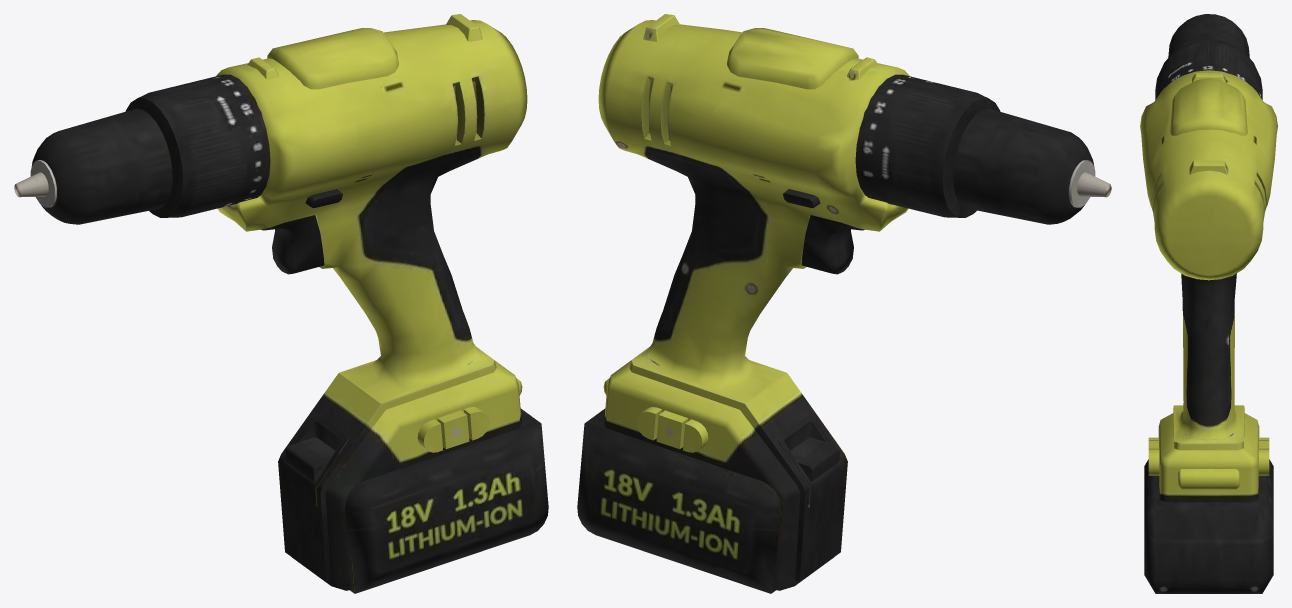
The model's file is Drill_01.glb.
The picture shows the model from 3 angles, left to right: view 1: azimuth 30°, elevation 25°; view 2: azimuth 150°, elevation 25°; view 3: azimuth 270°, elevation 25°; orthographic projection. The views are drawn at different scales.
Parts seen in each view (by area): view 1: Drill_01; view 2: Drill_01; view 3: Drill_01.
Boxes of the visible parts, box(x1,y1,x2,y2) form: Drill_01: box(14, 14, 548, 593); Drill_01: box(577, 14, 1111, 593); Drill_01: box(1140, 14, 1277, 593).
Bounding box in the file's own units: 0.1829 × 0.1851 × 0.0524.
1 material, 1 textured.
